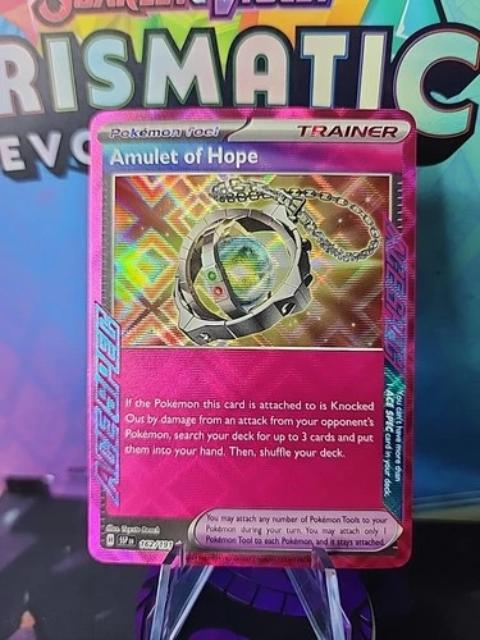Card: (84, 102, 422, 574)
Name: (98, 144, 268, 173)
